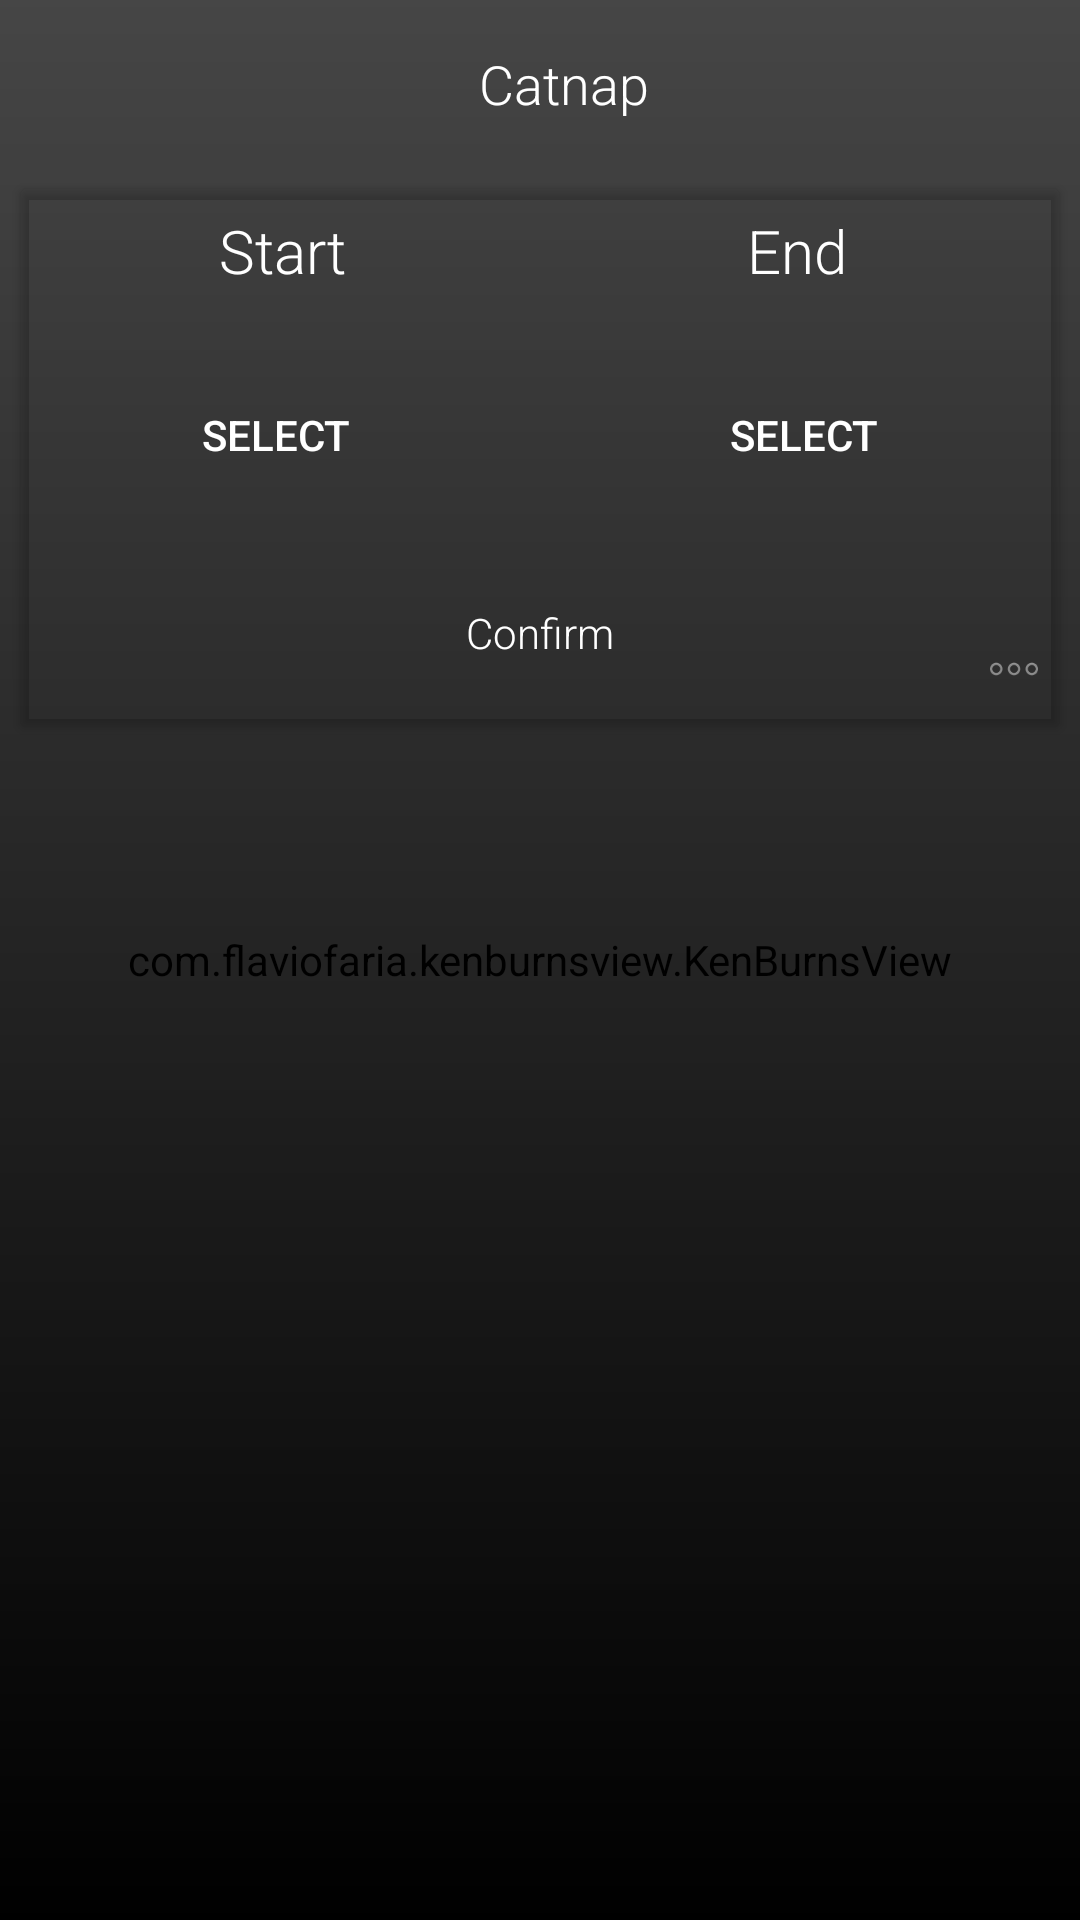

Icon bounding boxes for this 1080x1920 phone screenshot, format (x1, y1, x2, y2):
more: (990, 662, 1038, 675)
